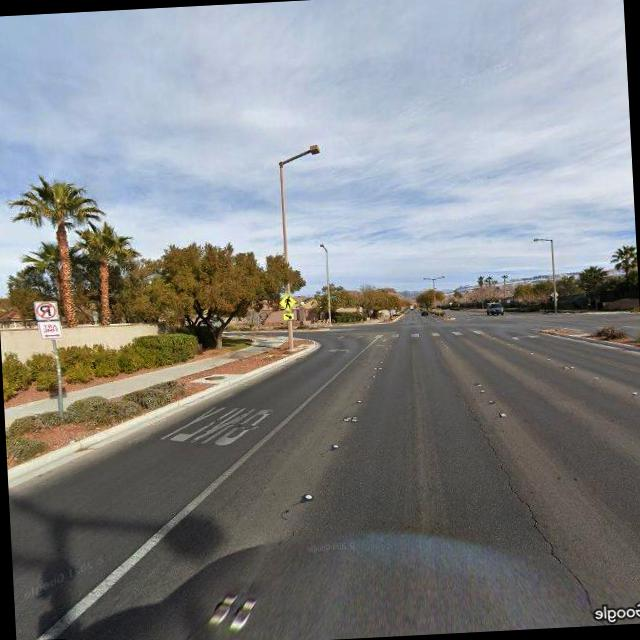crack: (469, 401, 598, 606)
